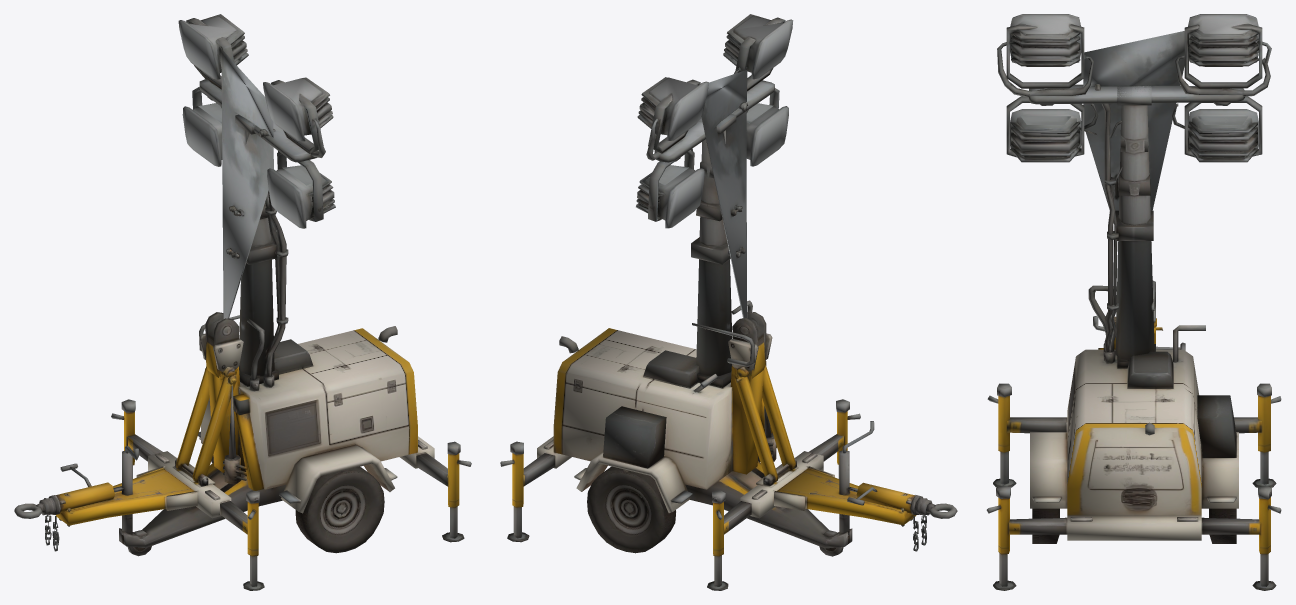
Rendered from torre_iluminacao.glb.
3 renders of one model, left to right at view 1: azimuth 30°, elevation 25°; view 2: azimuth 150°, elevation 25°; view 3: azimuth 270°, elevation 25°, orthographic. The views are drawn at different scales.
Parts seen in each view (by area): view 1: Torre móvel de iluminação; view 2: Torre móvel de iluminação; view 3: Torre móvel de iluminação.
Boxes of the visible parts, <box> form: Torre móvel de iluminação: <box>14,14,471,590</box>; Torre móvel de iluminação: <box>500,14,957,590</box>; Torre móvel de iluminação: <box>986,14,1281,590</box>.
Size of the model in its own units: 0.8574 by 0.998 by 0.541.
1 material, 1 textured.
